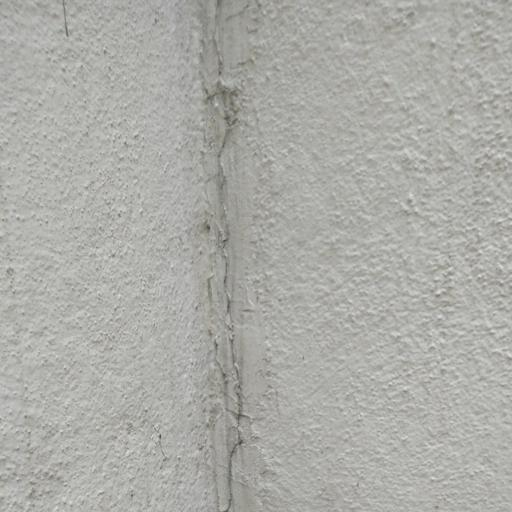minor_crack: (180, 1, 269, 505)
